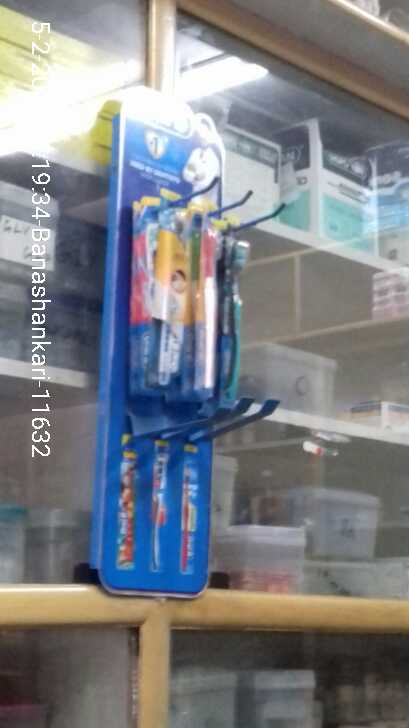oralb: (196, 198, 223, 387), (222, 232, 252, 388)
